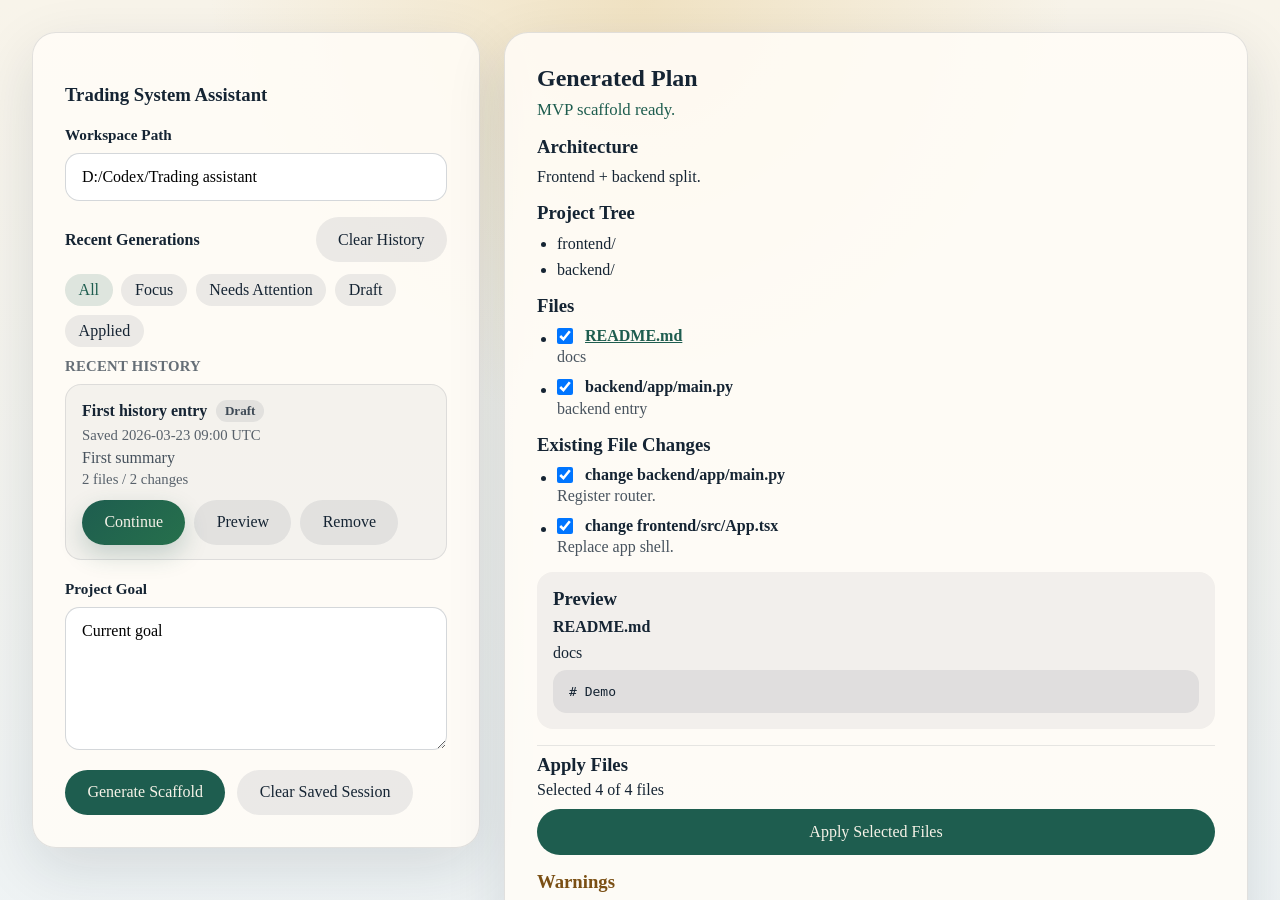
Test case: App › expands a generation history preview when requested
This screenshot has width=1280, height=900.
Click the button with aria-label "preview first history entry": (243, 522) [194,500,292,545]
(page scrolled)
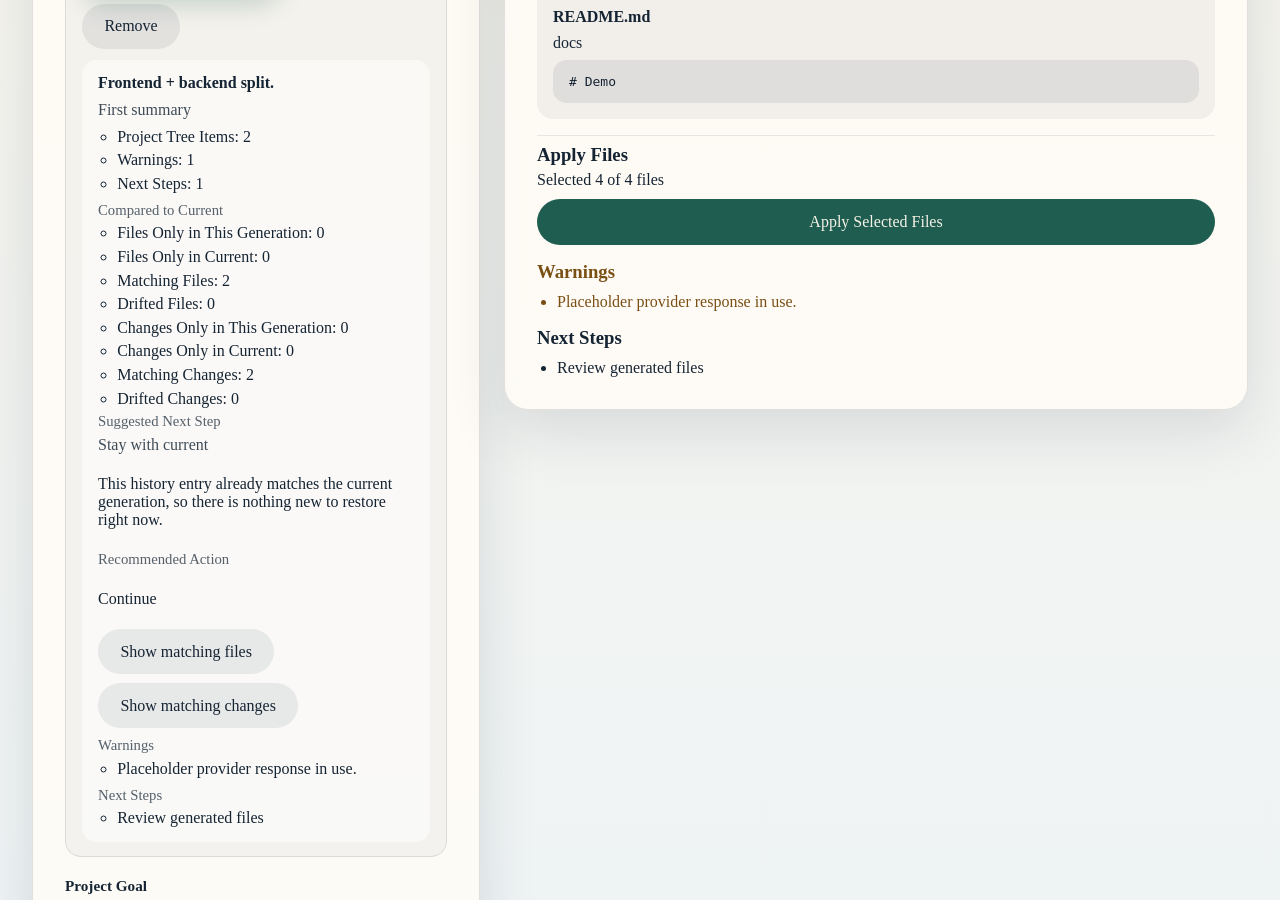
expect the element named "preview first history entry" shows "Frontend + backend split": met, box [98,74,274,91]
expect the element named "preview first history entry" shows "Project Tree Items: 2": met, box [117,128,251,145]
expect the element named "preview first history entry" shows "placeholder provider response in use": met, box [117,760,357,777]
